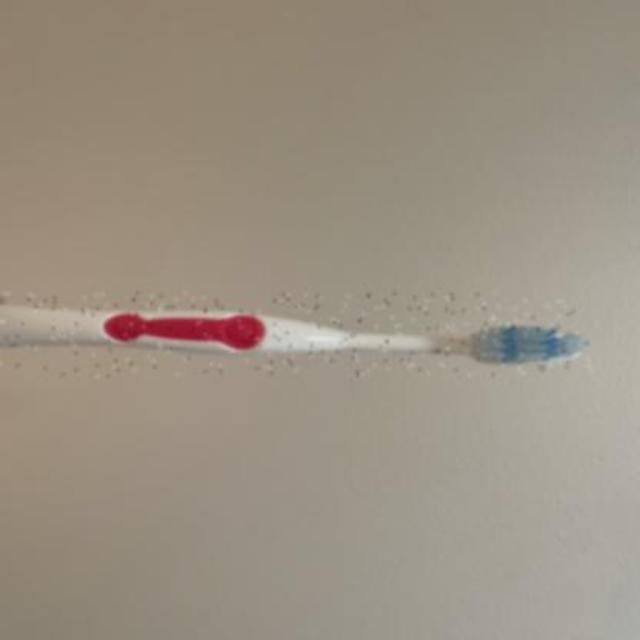toothbrush: (1, 293, 594, 377)
